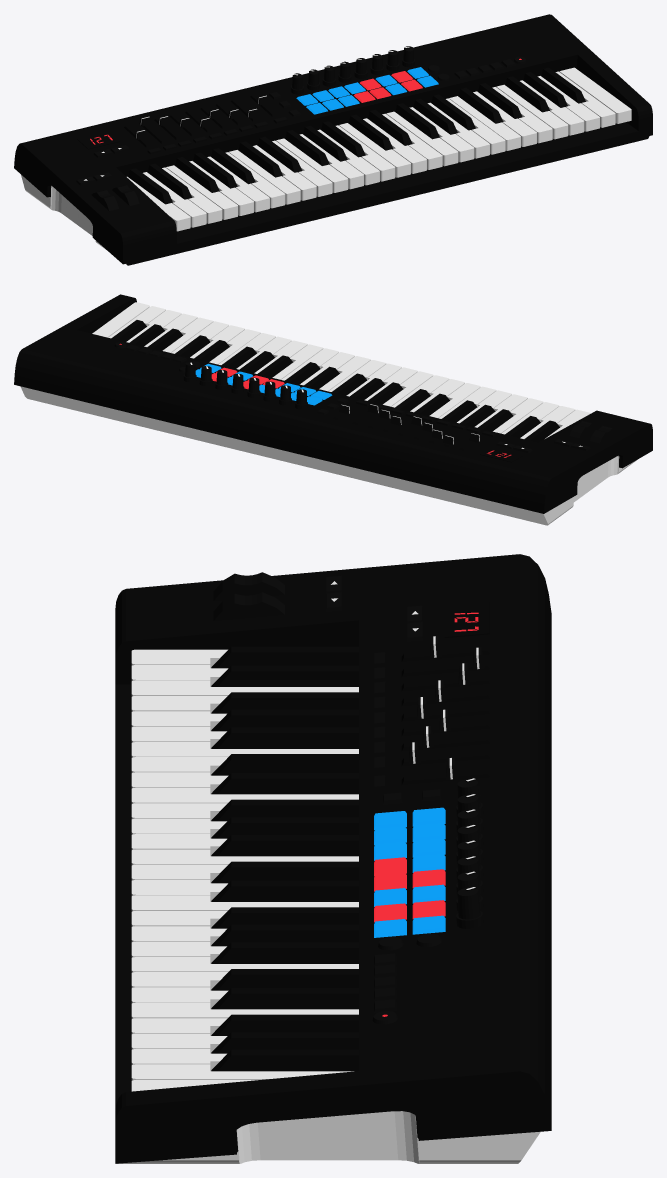
File: kiki.glb
The picture shows the model from 3 angles, top to bottom: view 1: azimuth 30°, elevation 25°; view 2: azimuth 150°, elevation 25°; view 3: azimuth 270°, elevation 25°; orthographic projection. The views are drawn at different scales.
Parts seen in each view (by area): view 1: Novation Launchkey 49; view 2: Novation Launchkey 49; view 3: Novation Launchkey 49.
Boxes of the visible parts, x1,y1,x2,y2 form: Novation Launchkey 49: [14, 14, 652, 265]; Novation Launchkey 49: [14, 294, 652, 525]; Novation Launchkey 49: [115, 554, 551, 1163].
Size of the model in its own units: 0.775 by 0.089 by 0.2763.
